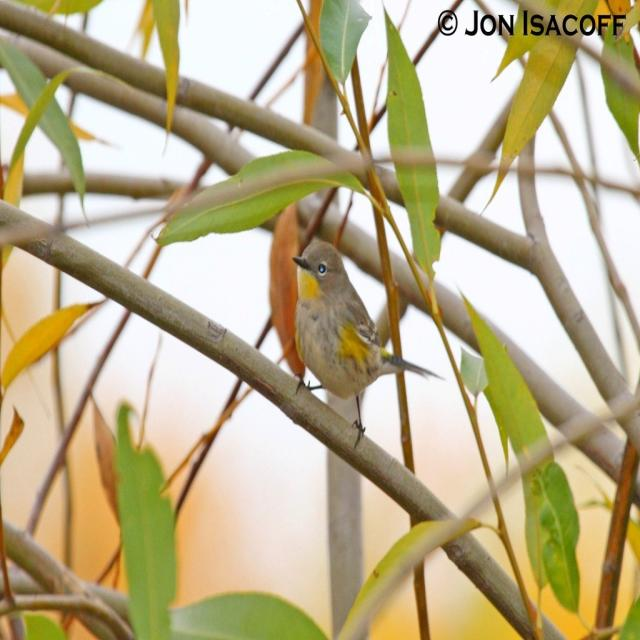bird: (290, 236, 442, 448)
